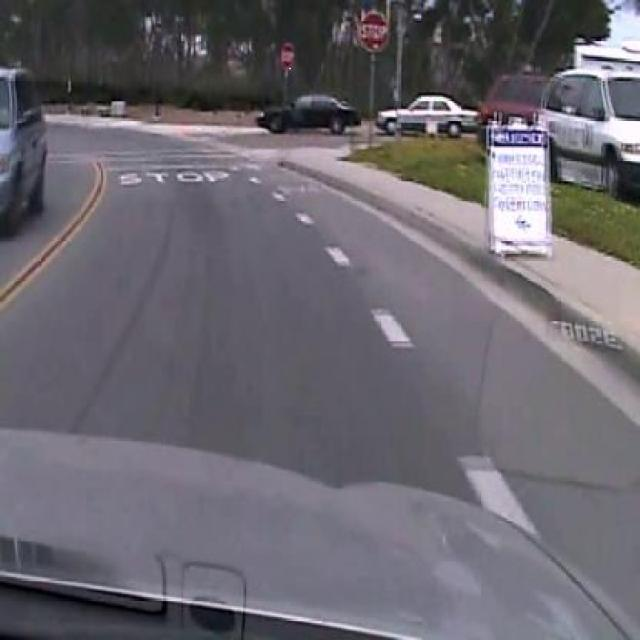stop: (359, 11, 388, 52), (278, 41, 295, 70)
